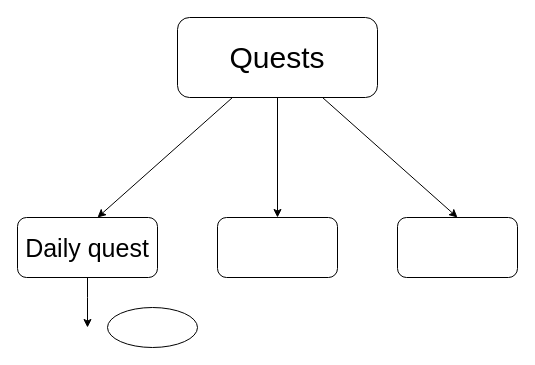
Image size: 535x365. Some labels were removed from this diagram. The centre of each missing label's shape, as x and y in pixels:
"One-time quests" goes at (x=457, y=247).
"Weekly quests" goes at (x=277, y=247).
